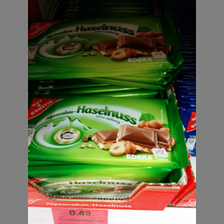chocolate: (28, 95, 189, 170), (29, 21, 178, 75)
